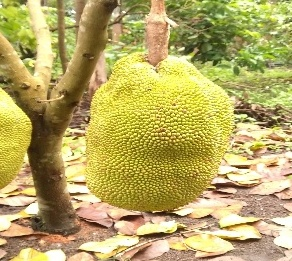Mit: (84, 52, 235, 212)
